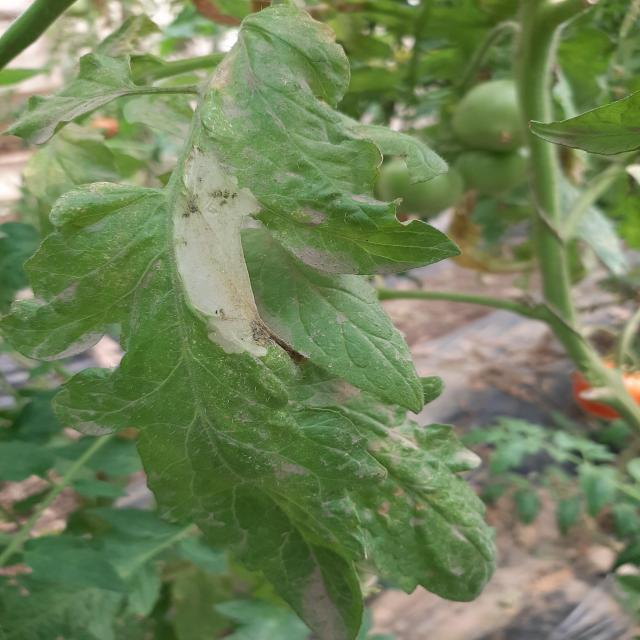Tuta absoluta: (143, 132, 309, 390)
